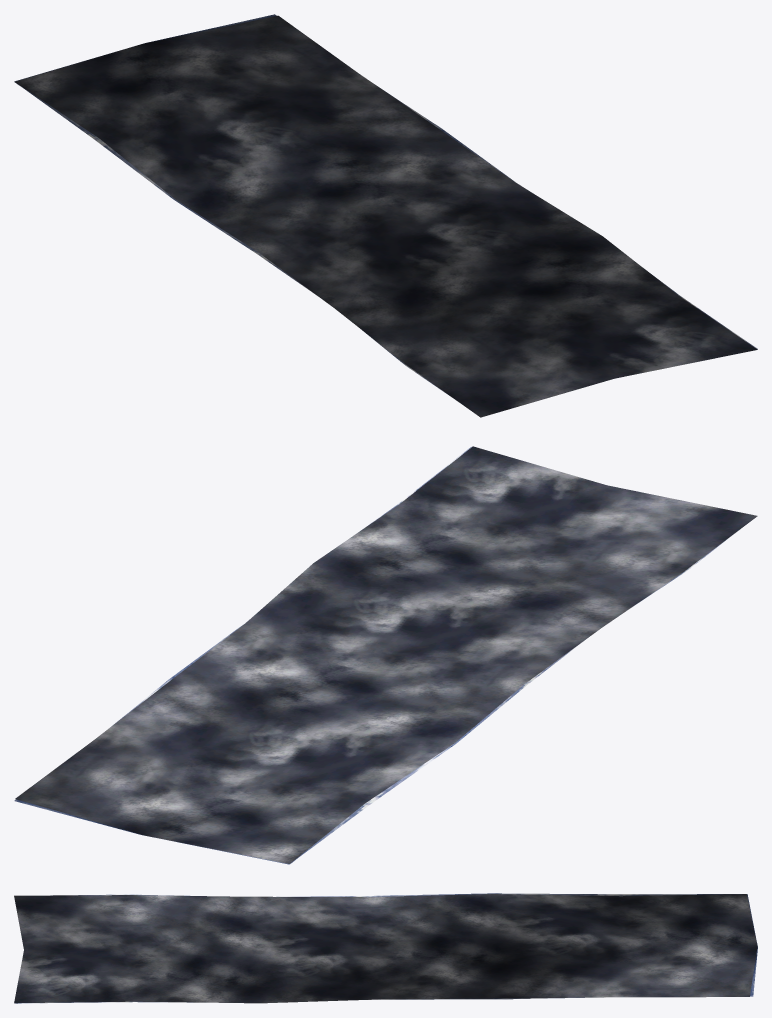
The model's file is LONE_MOUNTAIN_WATERFALLS_MAIN_WATERFALL_BILLOWS01.fbx.
3 renders of one model, top to bottom at view 1: azimuth 30°, elevation 25°; view 2: azimuth 150°, elevation 25°; view 3: azimuth 270°, elevation 25°, orthographic. The views are drawn at different scales.
Parts seen in each view (by area): view 1: LONE_MOUNTAIN_WATERFALLS_MAIN_WATERFALL_BILLOWS01; view 2: LONE_MOUNTAIN_WATERFALLS_MAIN_WATERFALL_BILLOWS01; view 3: LONE_MOUNTAIN_WATERFALLS_MAIN_WATERFALL_BILLOWS01.
Boxes of the visible parts, x1,y1,x2,y2 form: LONE_MOUNTAIN_WATERFALLS_MAIN_WATERFALL_BILLOWS01: (14,14,757,417); LONE_MOUNTAIN_WATERFALLS_MAIN_WATERFALL_BILLOWS01: (14,446,757,864); LONE_MOUNTAIN_WATERFALLS_MAIN_WATERFALL_BILLOWS01: (14,893,757,1003).
Bounding box in the file's own units: 43059 × 79.56 × 122530.
Materials: 2 (2 with a texture image).
